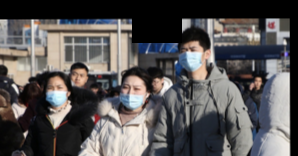with_mask: (177, 42, 206, 71), (119, 81, 147, 110), (43, 82, 69, 107)
without_mask: (70, 69, 86, 87), (151, 77, 162, 91), (254, 76, 263, 88)
